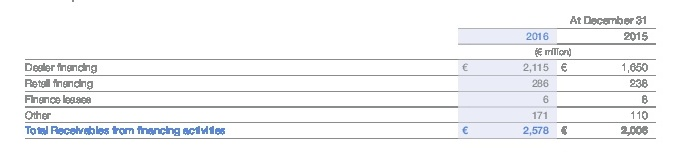table: (0, 0, 680, 156)
